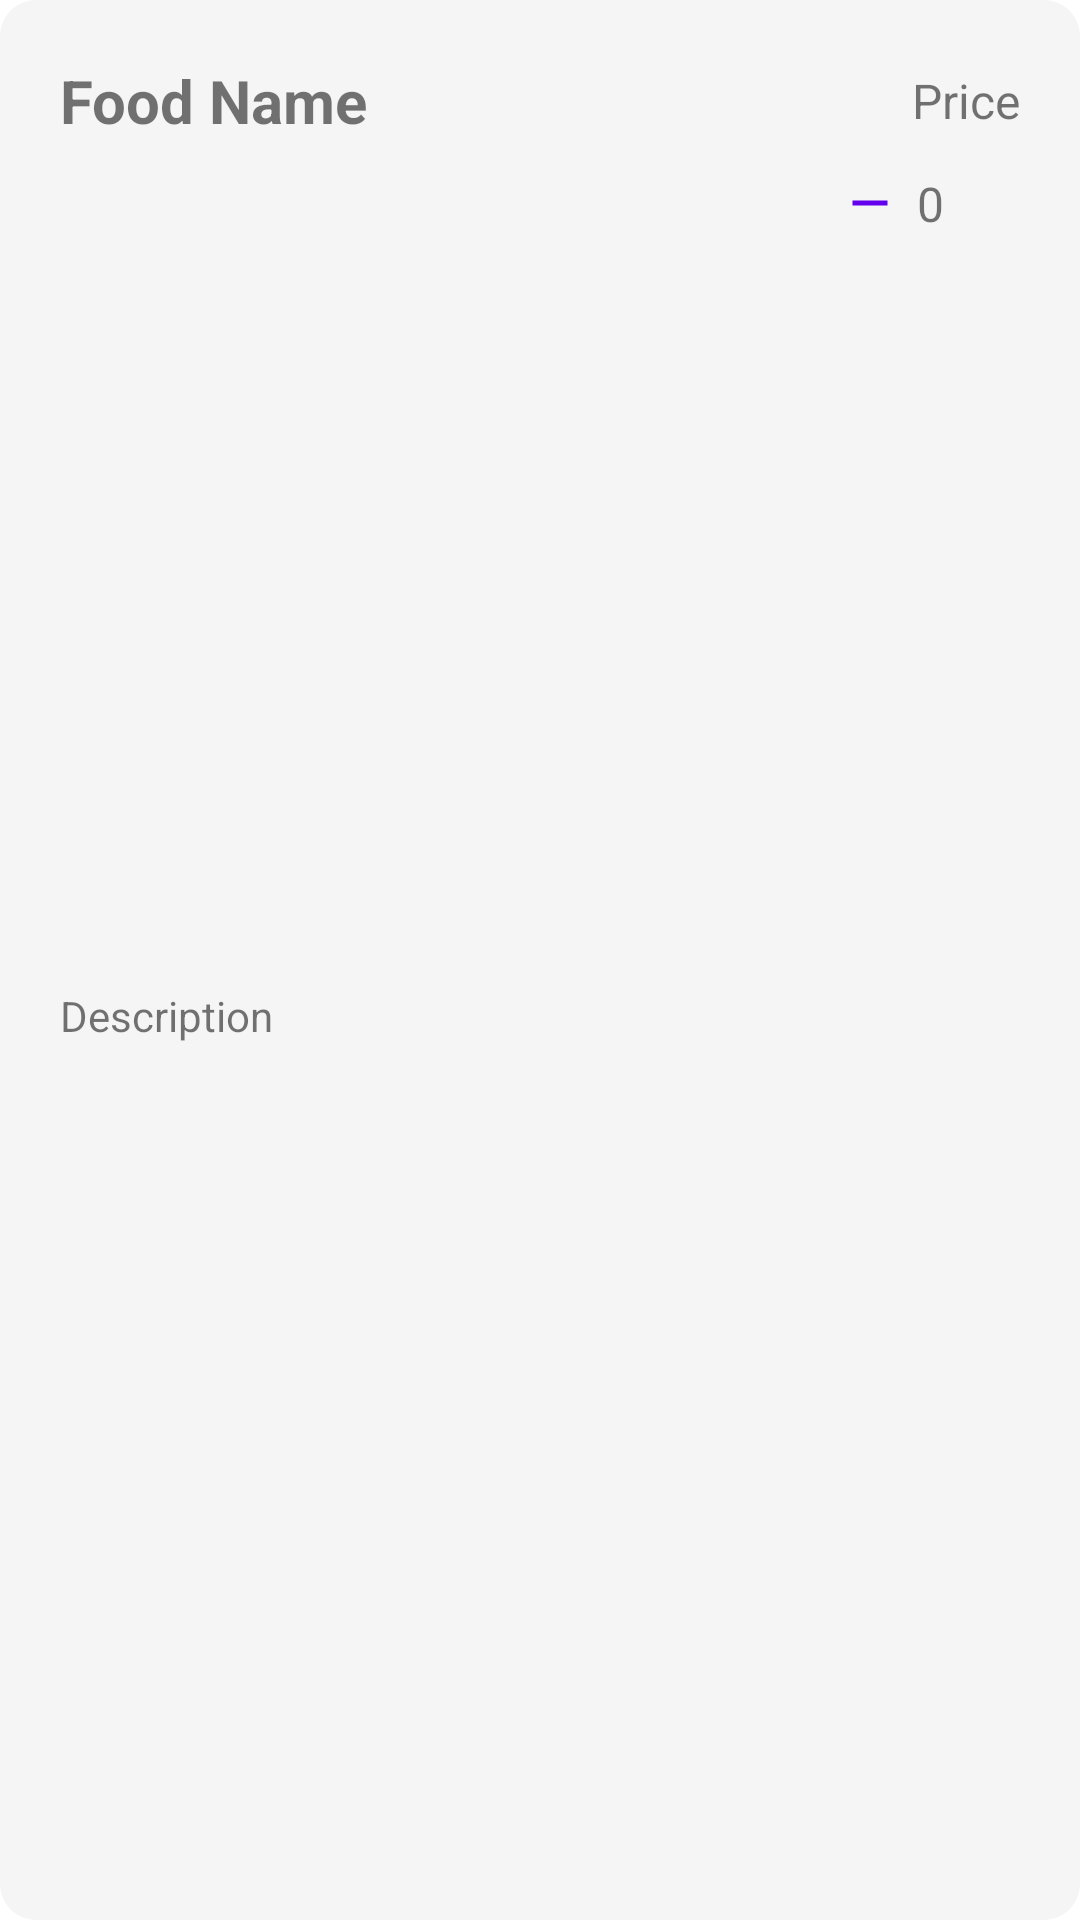

Point at icon controls on the screen. Image size 1080 x 1920, points as (x,y).
remove: (870,203)
